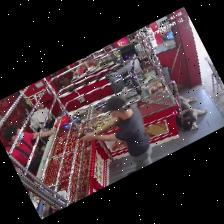person: (83, 96, 151, 174), (11, 132, 38, 166)
